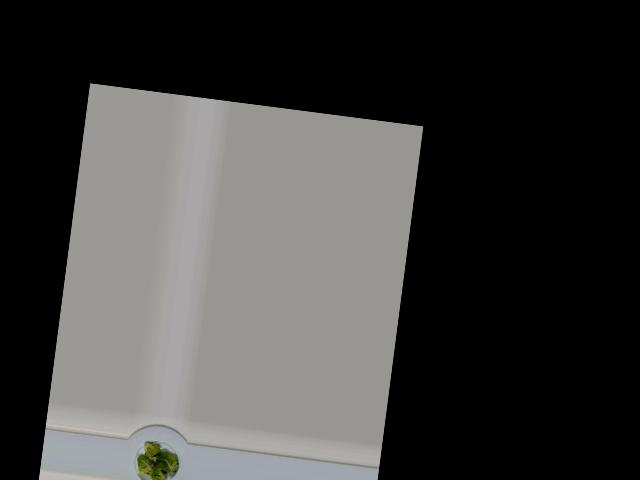lettuce: (135, 439, 185, 480)
